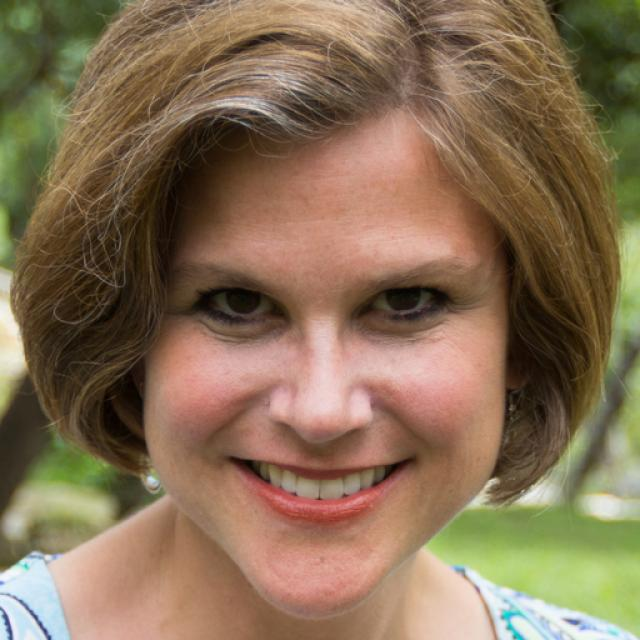Dark Circle: (193, 312, 289, 346), (359, 314, 446, 343)
